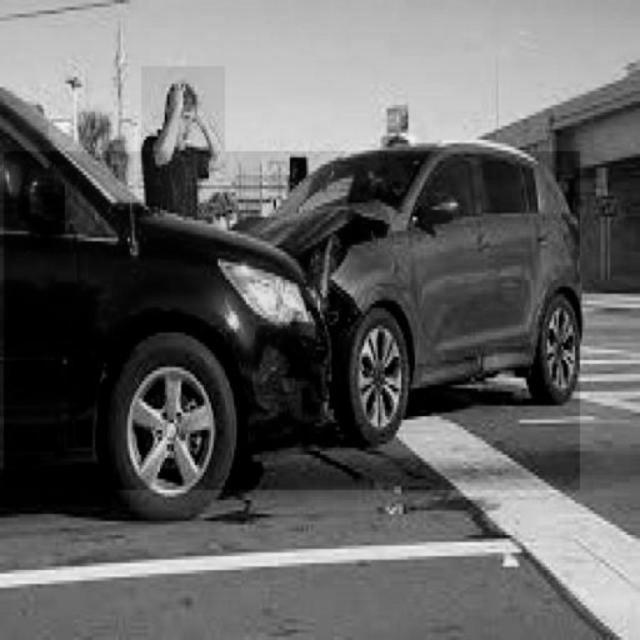accident: (4, 151, 580, 489)
person: (142, 66, 225, 208)
